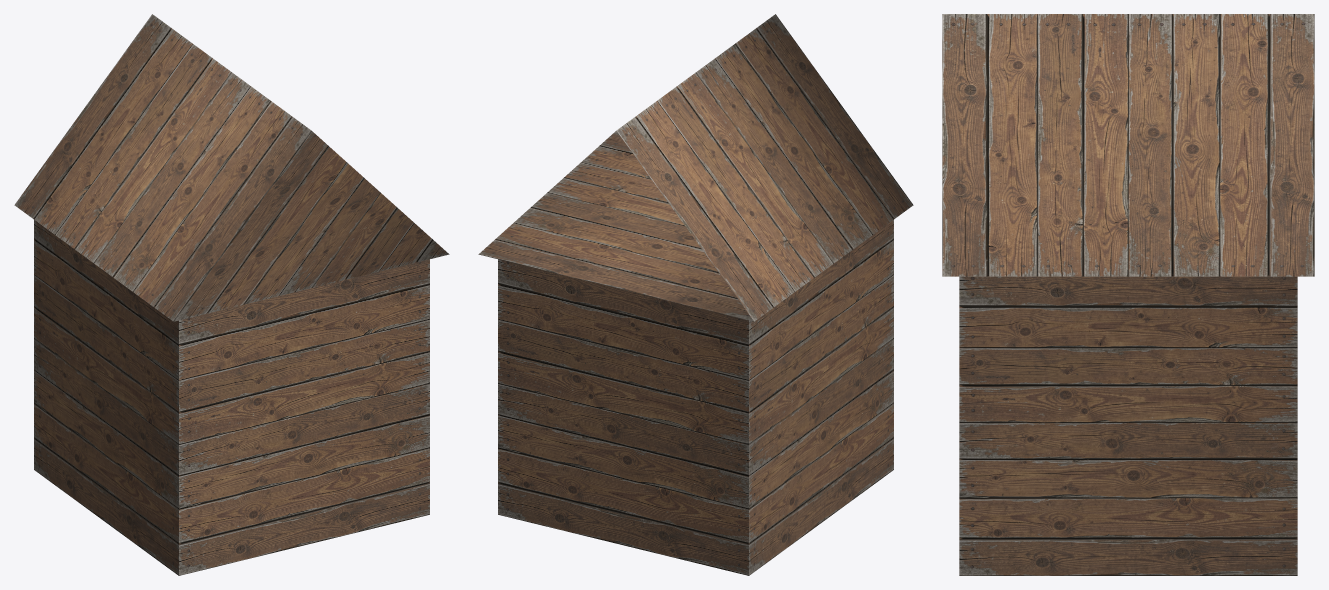
Rendered from small_residence.obj.
The picture shows the model from 3 angles, left to right: view 1: azimuth 30°, elevation 25°; view 2: azimuth 150°, elevation 25°; view 3: azimuth 270°, elevation 25°; orthographic projection. The views are drawn at different scales.
Parts seen in each view (by area): view 1: building; view 2: building; view 3: building.
Part boxes in pixels (x1,y1,x2,y2): building: (14, 14, 449, 575); building: (478, 14, 913, 575); building: (942, 14, 1314, 575).
Size of the model in its own units: 2.2 by 3.2 by 2.2.
